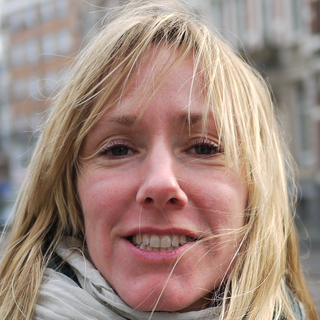eye: (175, 125, 229, 167), (82, 134, 147, 164)
